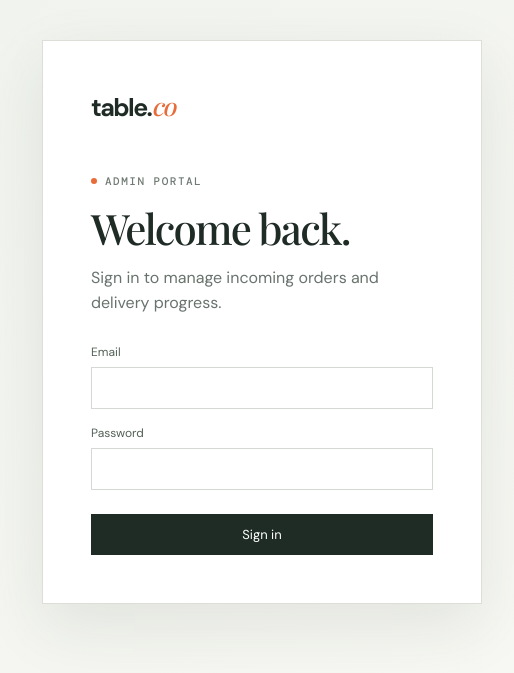
Test case: admin login › shows a pending state and server-authentication error without storing credentials
Step 1. Type "admin@example.com" into the field labelled "Email" → (262, 388), box [91,367,433,409]
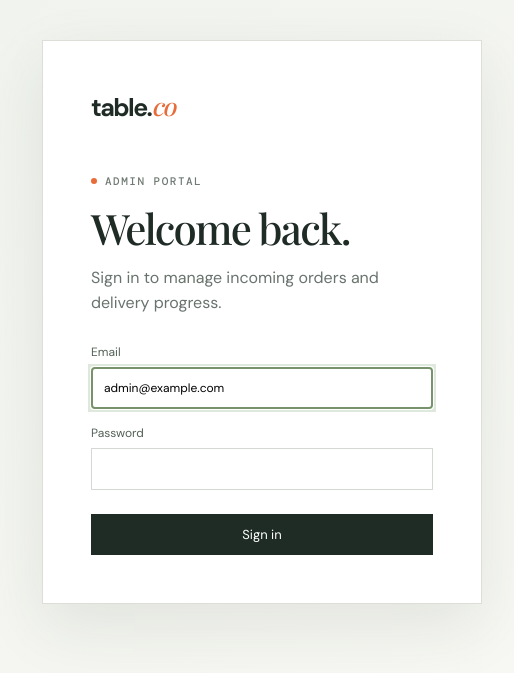
Step 2. Type "wrong-password" into the password field labelled "Password" → (262, 469), box [91,448,433,490]
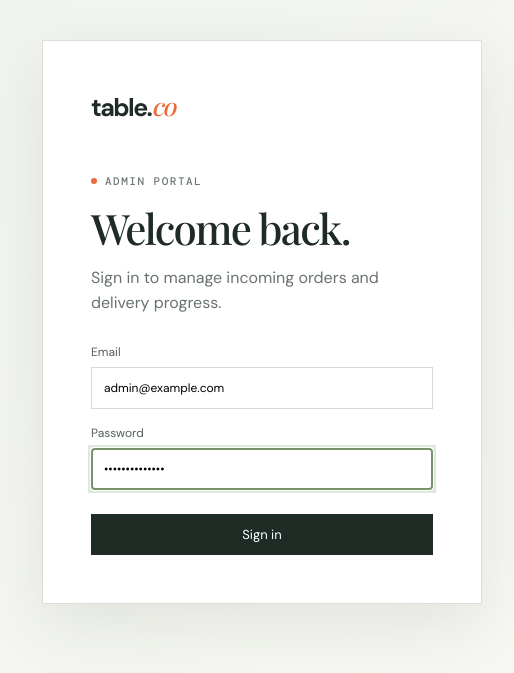
Step 3. Click the button "Sign in" → (262, 534), box [91,514,433,555]
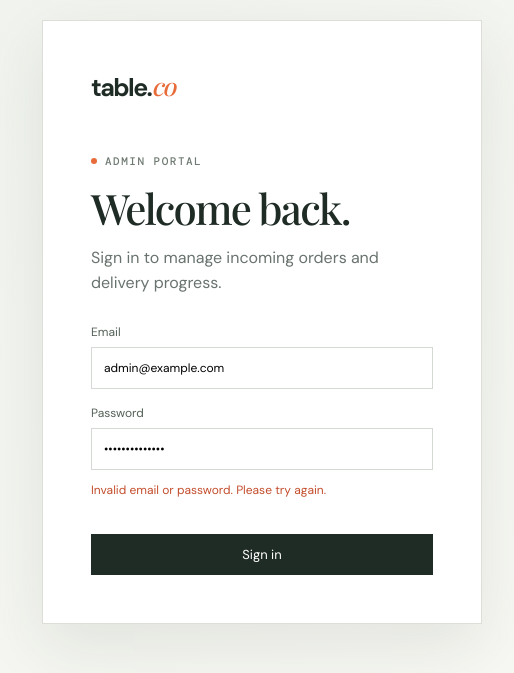
expect the message shows "Invalid email or password": met, box [91,482,326,498]
